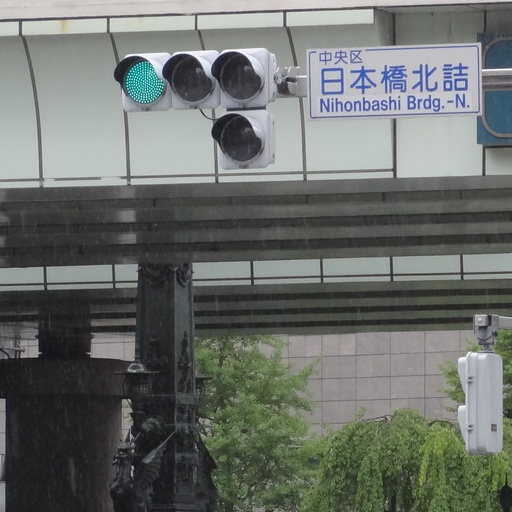Traffic_Signal_Blue: (113, 46, 273, 110)
